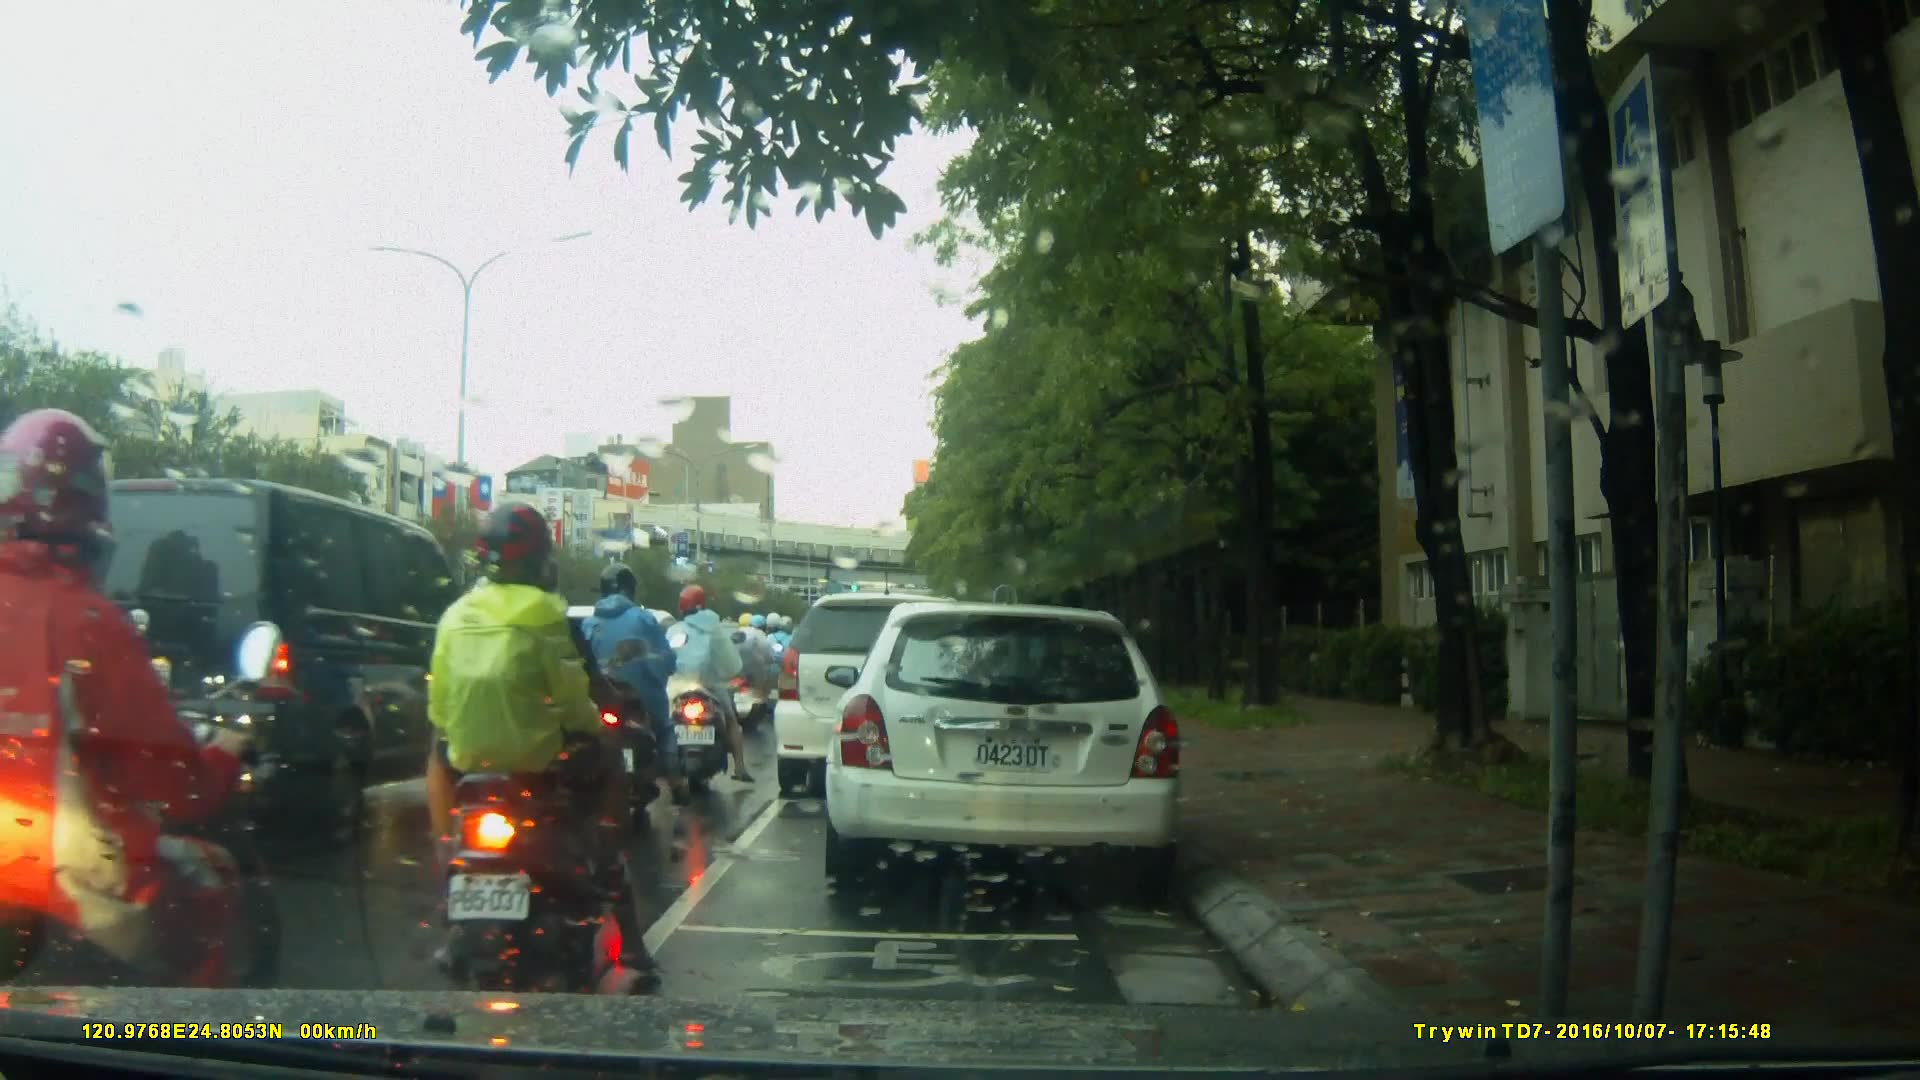rider: (5, 412, 300, 1075), (419, 503, 670, 985), (441, 568, 593, 903), (568, 566, 685, 833), (657, 586, 747, 791), (725, 612, 777, 734)
vehicle: (34, 468, 462, 857), (822, 604, 1188, 883), (774, 595, 995, 802), (446, 599, 693, 777)
